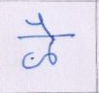au_matra: (32, 14, 60, 63)
